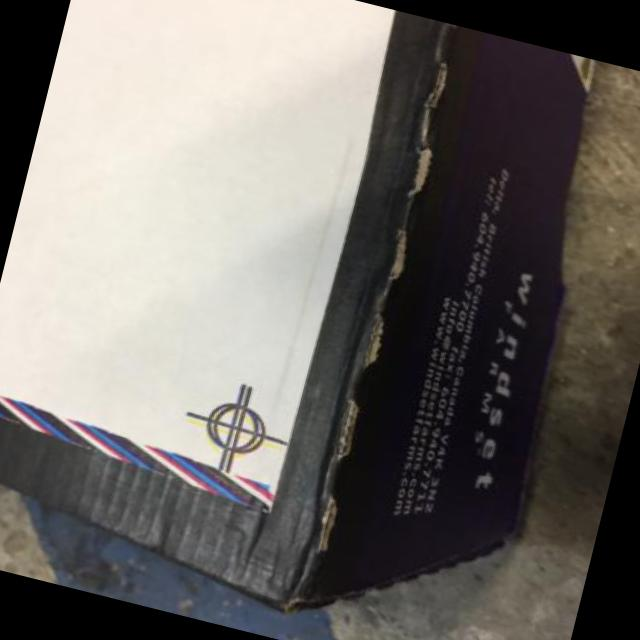cardboard: (0, 0, 593, 609)
paper: (0, 0, 393, 491)
